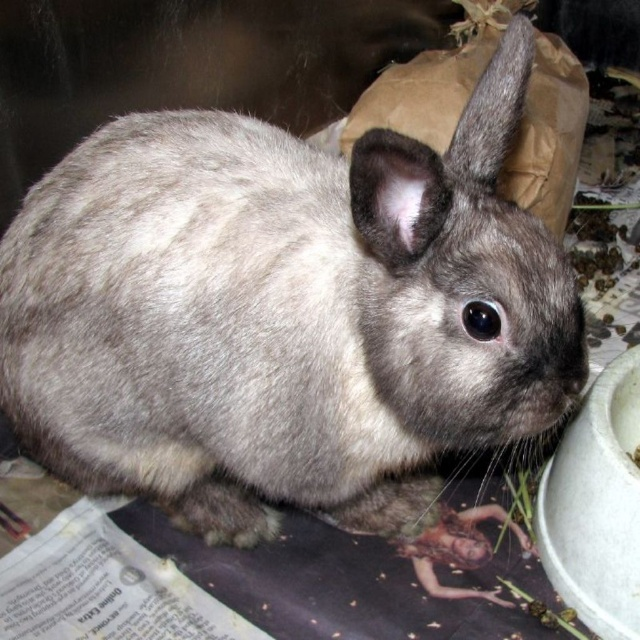Rabbit: (0, 14, 639, 549)
